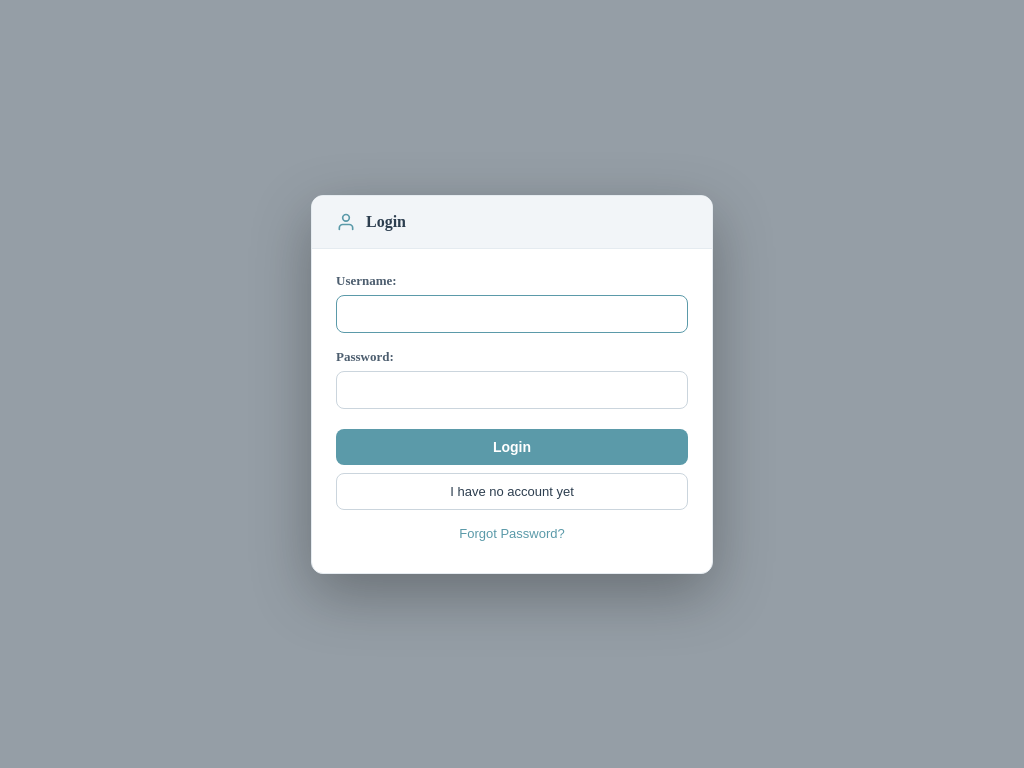
LoginForm › displays error message on login failure
In the field with id "login-username": (512, 314) [336,294,688,332], type "testuser"
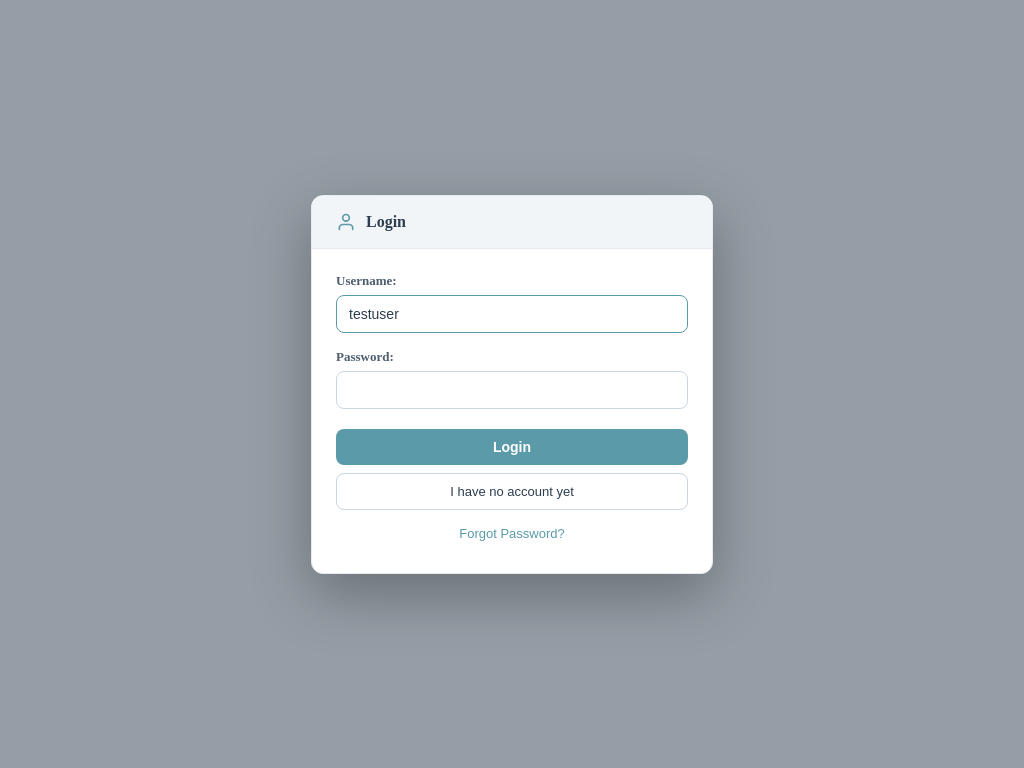
In the password field with id "login-password": (512, 390) [336,370,688,408], type "wrongpassword"
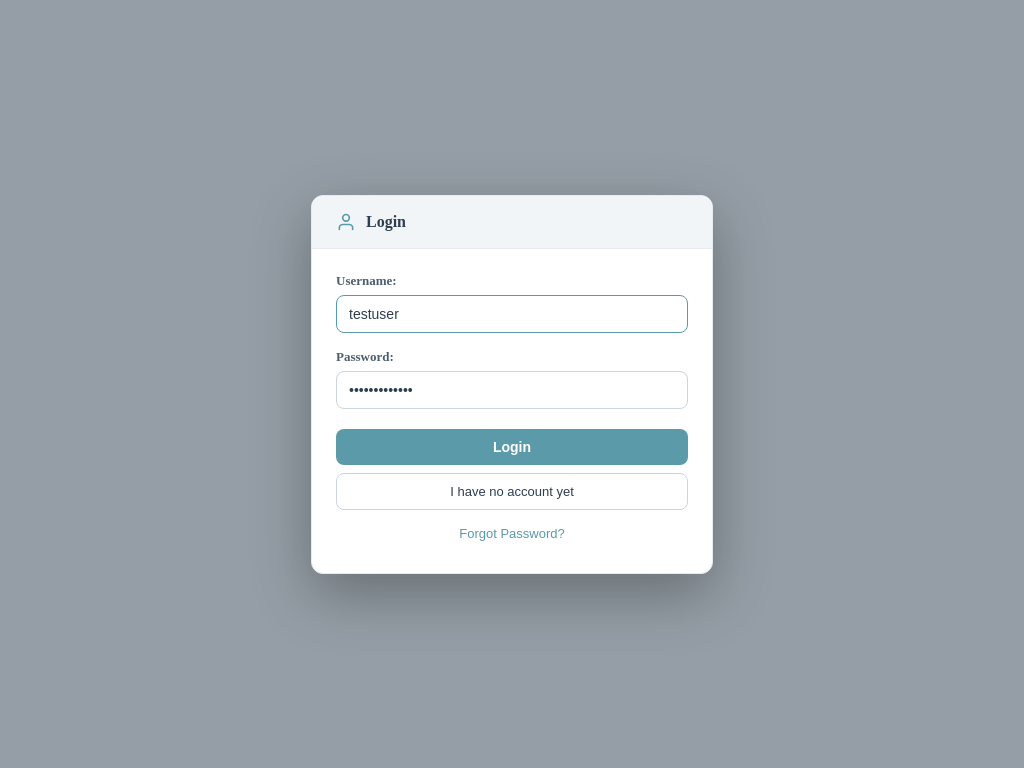
Click the button "Login": (512, 446) [336,428,688,464]
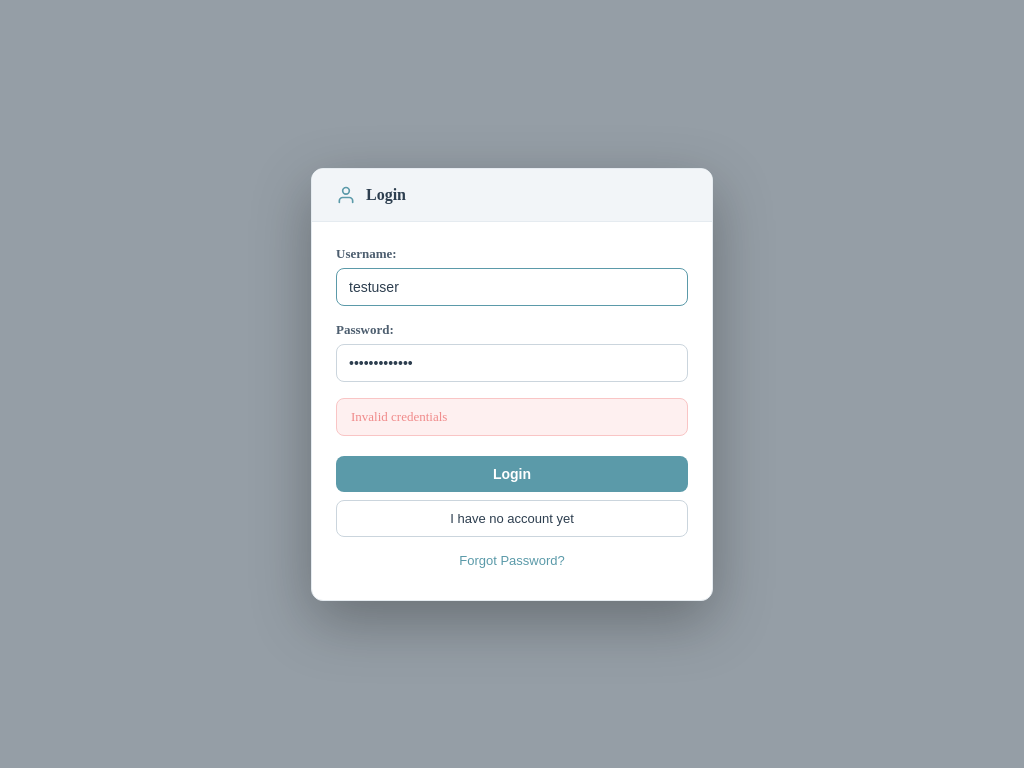
Expected: the text "Invalid credentials" is shown, [336,398,688,436]
